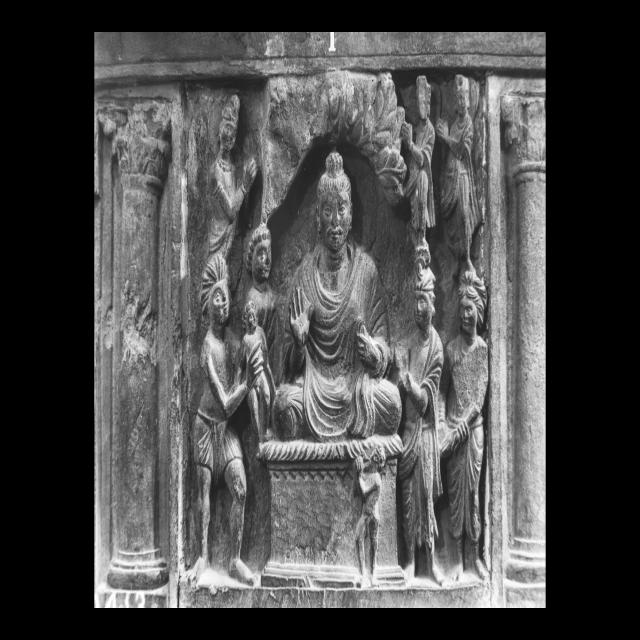buddha-sitting: (260, 152, 402, 592)
